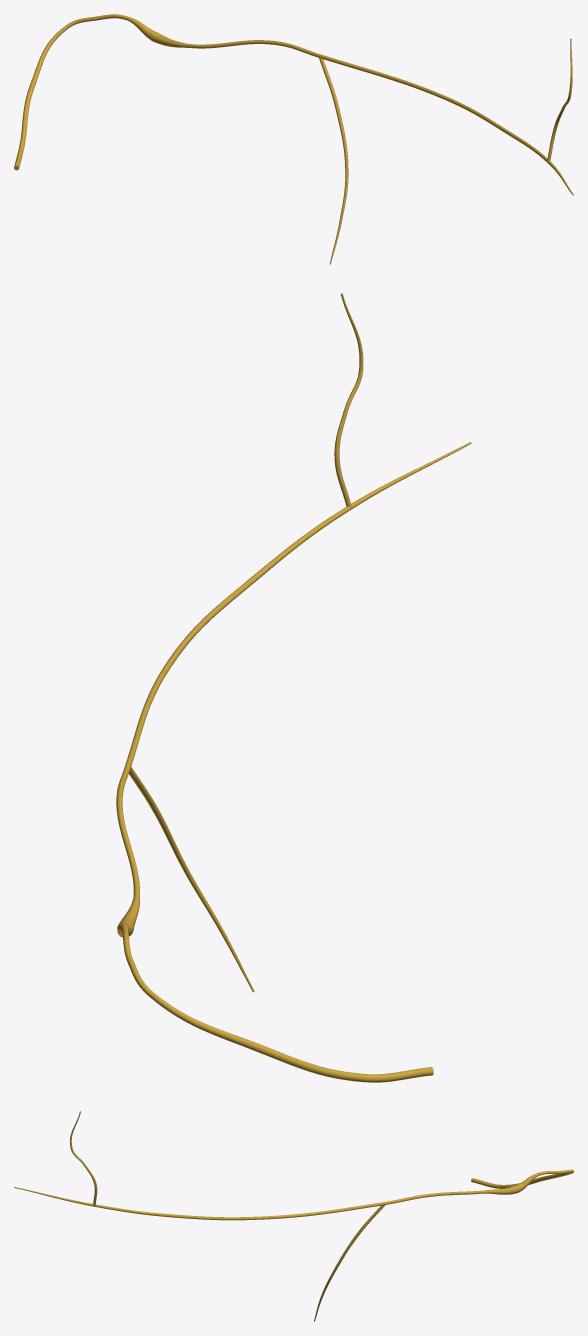
The picture shows the model from 3 angles, top to bottom: view 1: azimuth 30°, elevation 25°; view 2: azimuth 150°, elevation 25°; view 3: azimuth 270°, elevation 25°; orthographic projection. The views are drawn at different scales.
Visible parts, largest first — view 1: 左侧上颌神经脑膜支; view 2: 左侧上颌神经脑膜支; view 3: 左侧上颌神经脑膜支.
Part boxes in pixels (bbox=[...]): 左侧上颌神经脑膜支: bbox=[14, 14, 573, 264]; 左侧上颌神经脑膜支: bbox=[116, 293, 471, 1082]; 左侧上颌神经脑膜支: bbox=[14, 1111, 573, 1321].
Bounding box in the file's own units: 0.079 × 0.0764 × 0.1576.
